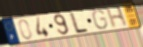0: (18, 18, 33, 41)
4: (36, 16, 51, 40)
9: (53, 13, 70, 37)
G: (92, 8, 109, 30)
H: (105, 5, 129, 30)
L: (69, 11, 90, 35)
